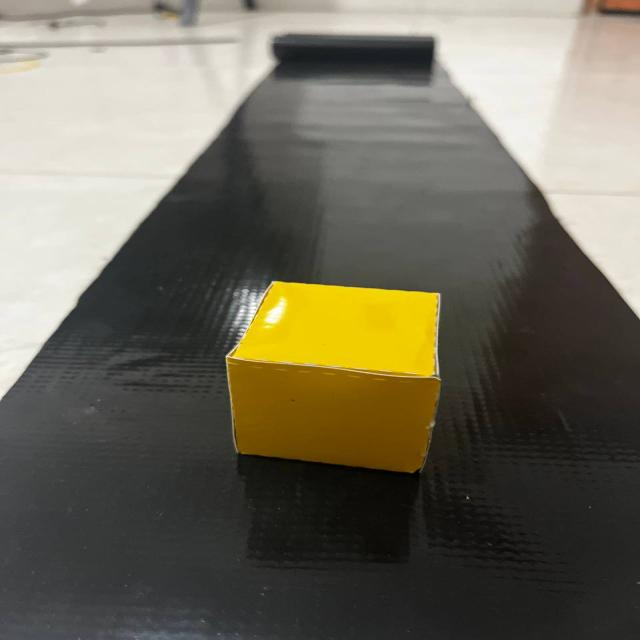Amarillo: (205, 261, 472, 500)
